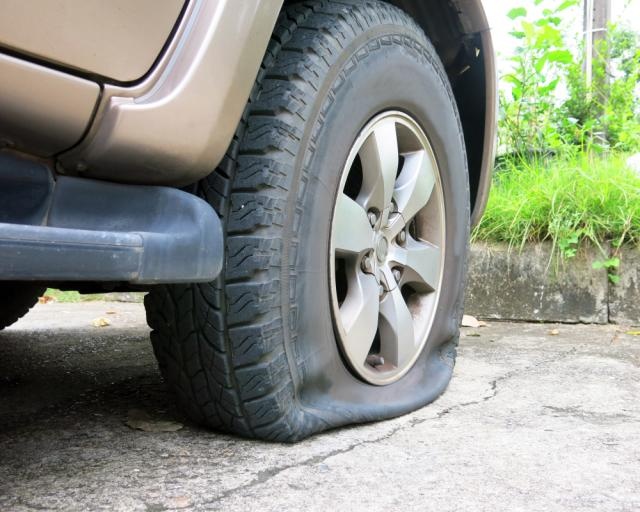tire flat: (142, 0, 470, 446)
